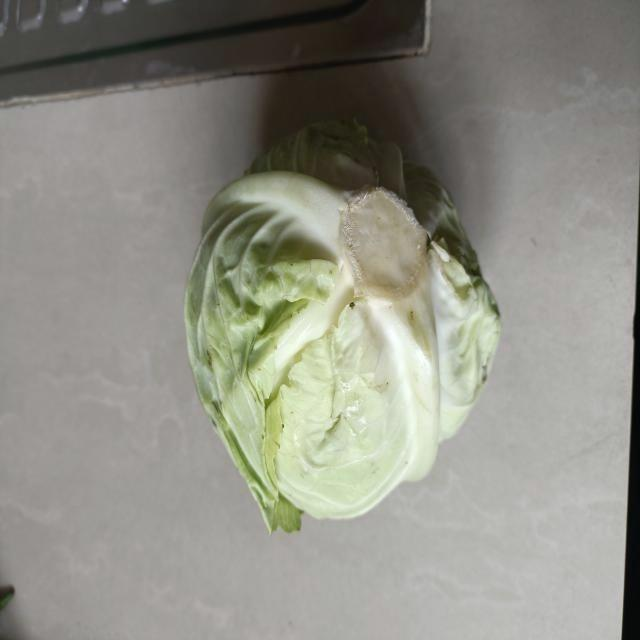cabbage: (187, 115, 502, 535)
